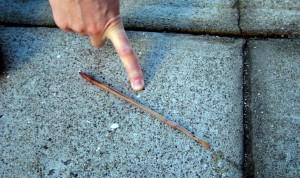earthworms: (55, 51, 245, 153)
